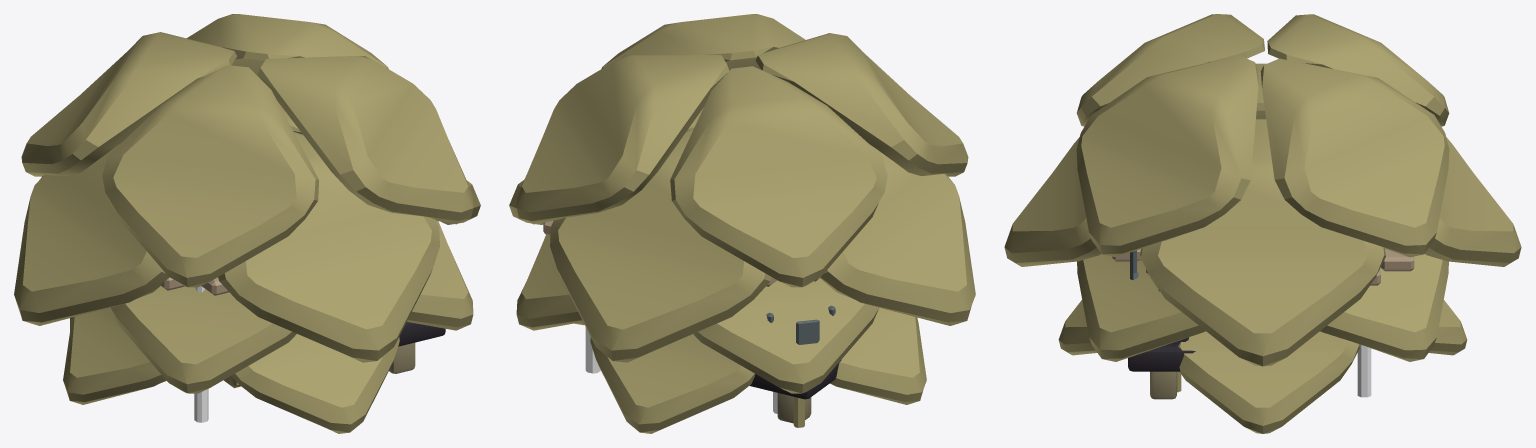
File: CubePlants.glb
3 renders of one model, left to right at view 1: azimuth 30°, elevation 25°; view 2: azimuth 150°, elevation 25°; view 3: azimuth 270°, elevation 25°, orthographic.
Visible parts, largest first — view 1: Bush, Mushroom, Flowers_1; view 2: Bush, Mushroom, Flowers_2, Flowers_1; view 3: Bush, Mushroom, Flowers_1.
Boxes of the visible parts, x1,y1,x2,y2 form: Bush: (14,14,480,433); Mushroom: (71,317,445,373); Flowers_1: (160,277,228,422); Bush: (509,14,975,433); Mushroom: (749,360,841,423); Flowers_2: (766,305,835,427); Flowers_1: (543,221,819,413); Bush: (1004,14,1521,433); Mushroom: (1128,337,1195,399); Flowers_1: (1112,248,1414,397).
Size of the model in its own units: 3.09 by 1.96 by 3.09.
Materials: 2 (1 with a texture image).
